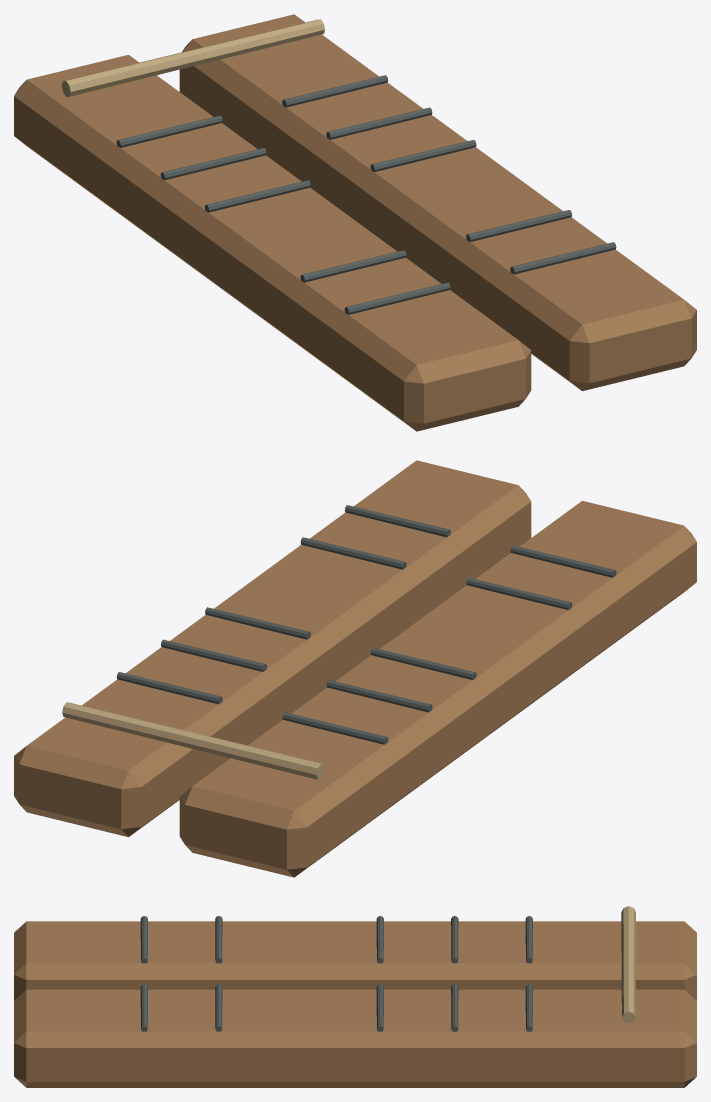
3 renders of one model, top to bottom at view 1: azimuth 30°, elevation 25°; view 2: azimuth 150°, elevation 25°; view 3: azimuth 270°, elevation 25°, orthographic. The views are drawn at different scales.
Parts seen in each view (by area): view 1: CE-039 Matched split cargo tally pair batched; view 2: CE-039 Matched split cargo tally pair batched; view 3: CE-039 Matched split cargo tally pair batched.
Boxes of the visible parts, bbox=[...] form: CE-039 Matched split cargo tally pair batched: bbox=[14, 14, 696, 431]; CE-039 Matched split cargo tally pair batched: bbox=[14, 460, 696, 877]; CE-039 Matched split cargo tally pair batched: bbox=[14, 906, 696, 1087].
Bounding box in the file's own units: 0.23 × 0.066 × 0.55.
